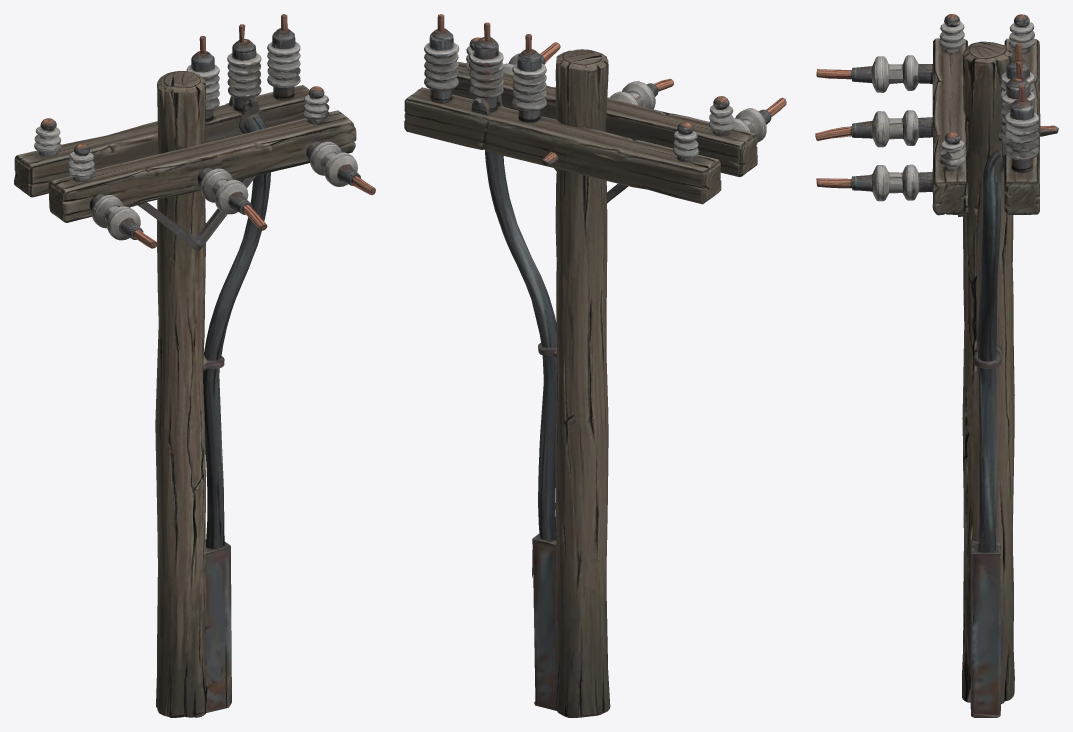
File: cable_riser_pole.glb
The picture shows the model from 3 angles, left to right: view 1: azimuth 30°, elevation 25°; view 2: azimuth 150°, elevation 25°; view 3: azimuth 270°, elevation 25°; orthographic projection. The views are drawn at different scales.
Size of the model in its own units: 0.8863 by 1.9 by 0.6241.
Materials: 1 (1 with a texture image).
